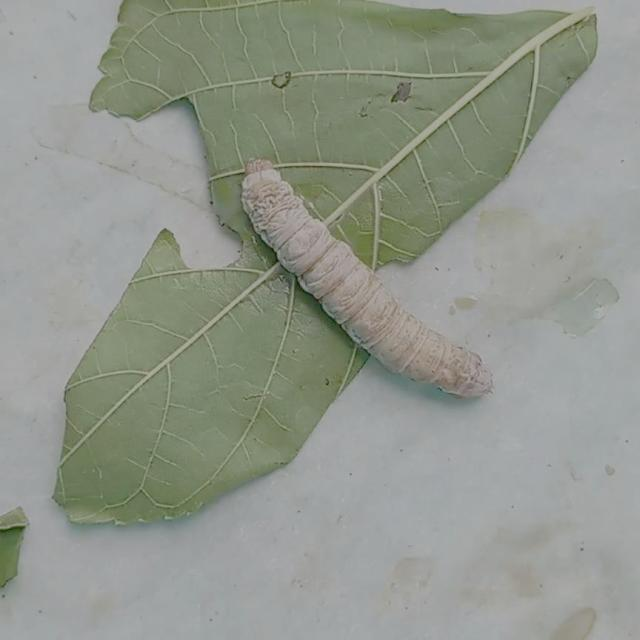Grasserie: (231, 148, 500, 404)
